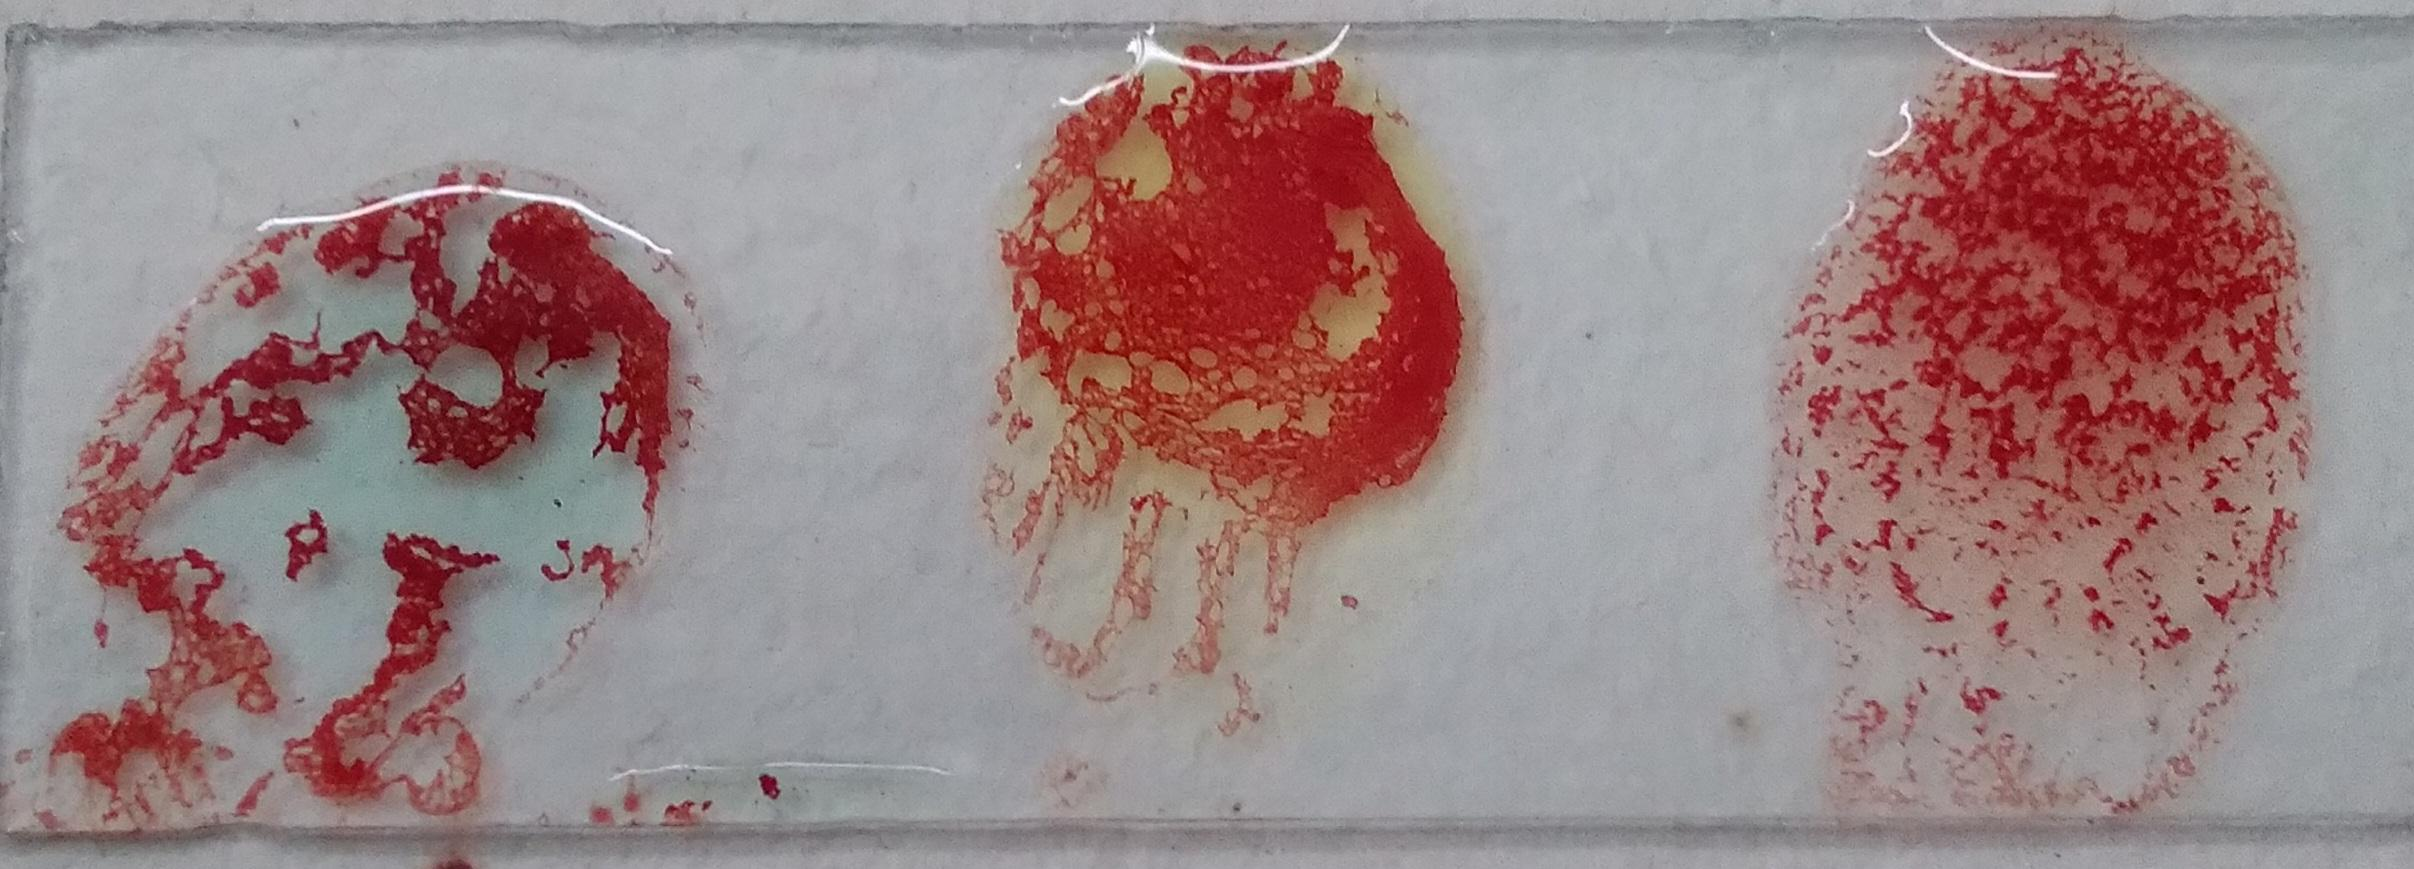A: (1754, 68, 2348, 689)
B: (964, 165, 1435, 826)
D: (123, 51, 619, 847)
